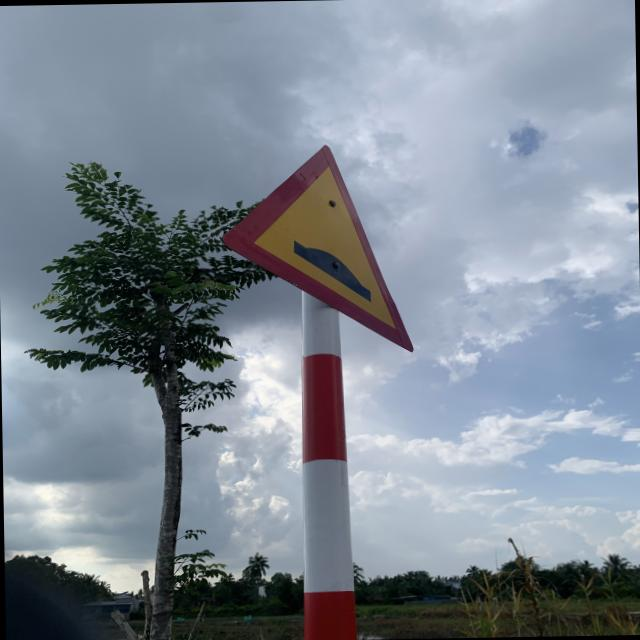Duong_Cong_Ben_Phai: (220, 140, 415, 357)
